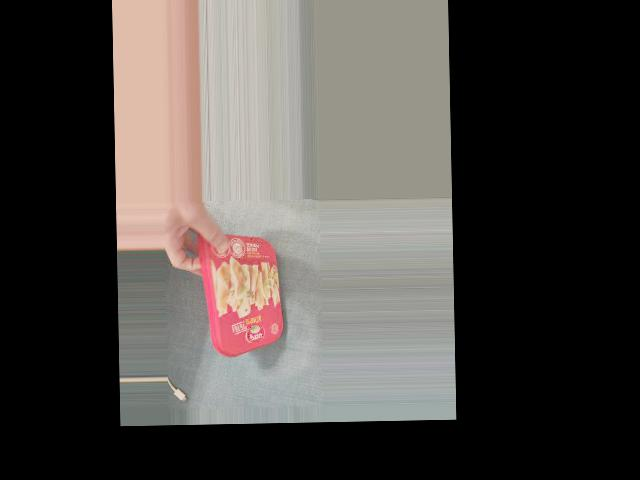cheese: (202, 236, 286, 350)
